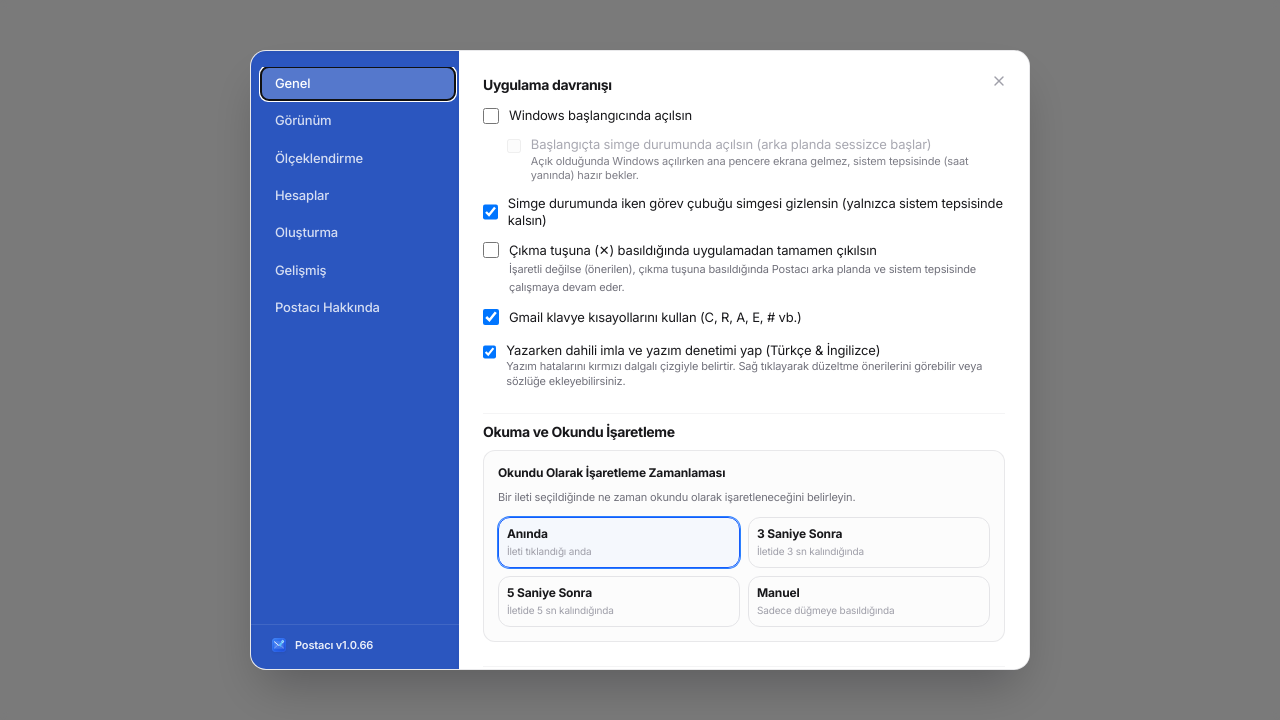
SettingsModal — sekme yüzeyi › ölçek sekmesi üç kartı ve canlı özeti render eder
Click the button "Ölçeklendirme" at (358, 158), box [261,142,455,175]
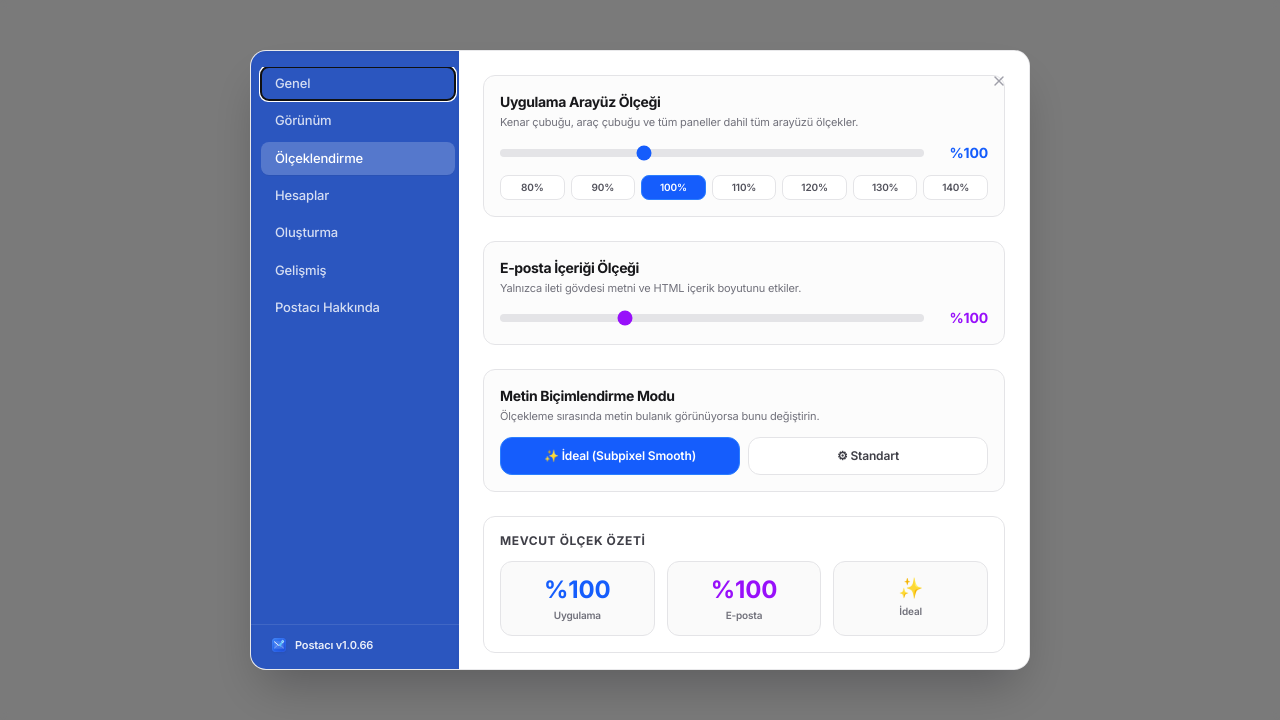
expect the heading "Uygulama Arayüz Ölçeği" is shown: met, box [500,93,661,110]
expect the heading "E-posta İçeriği Ölçeği" is shown: met, box [500,258,639,276]
expect the heading "Metin Biçimlendirme Modu" is shown: met, box [500,387,675,404]
